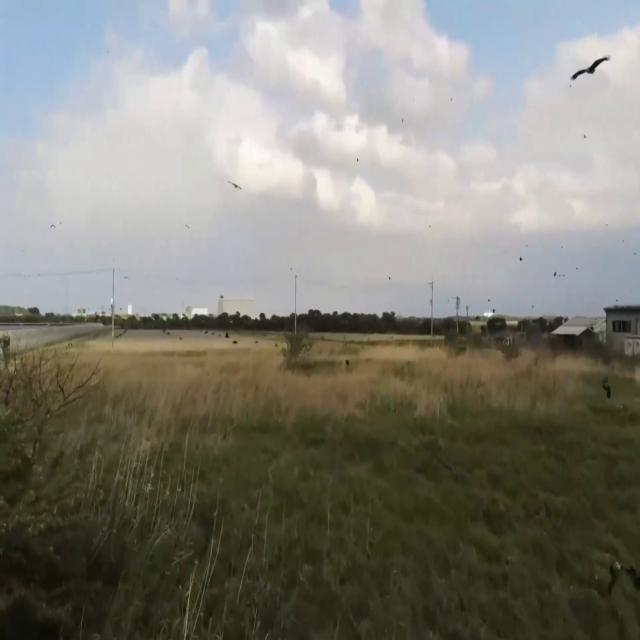bird: (570, 35, 612, 104), (228, 172, 242, 199), (602, 376, 612, 405)
